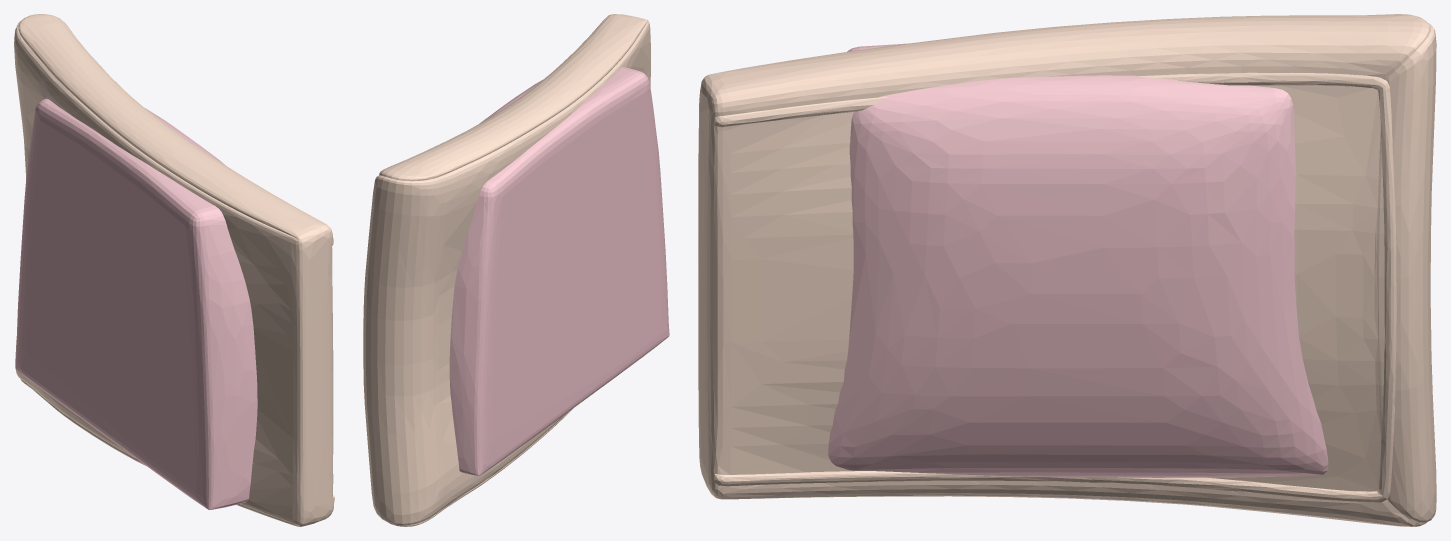
The model's file is view_input_colored.glb.
The picture shows the model from 3 angles, left to right: view 1: azimuth 30°, elevation 25°; view 2: azimuth 150°, elevation 25°; view 3: azimuth 270°, elevation 25°; orthographic projection. The views are drawn at different scales.
Parts seen in each view (by area): view 1: world; view 2: world; view 3: world.
Boxes of the visible parts, x1=… form: world: x1=14, y1=14, x2=334, y2=526; world: x1=363, y1=14, x2=669, y2=526; world: x1=698, y1=14, x2=1436, y2=526.
Size of the model in its own units: 0.1473 by 0.4635 by 0.6266.
